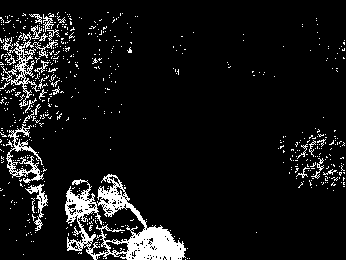person: (8, 130, 49, 234), (98, 173, 146, 260), (64, 179, 101, 260)
